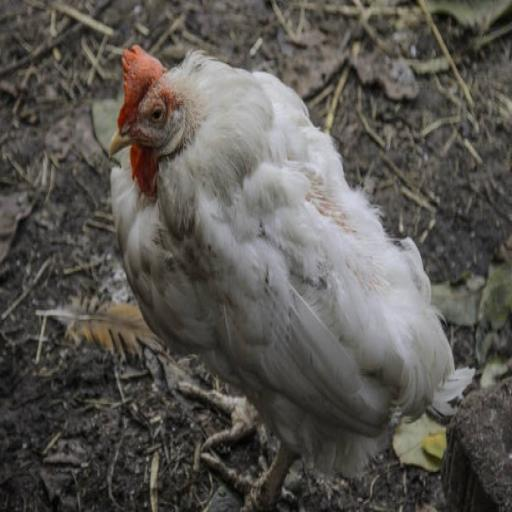disease: (116, 54, 163, 133)
